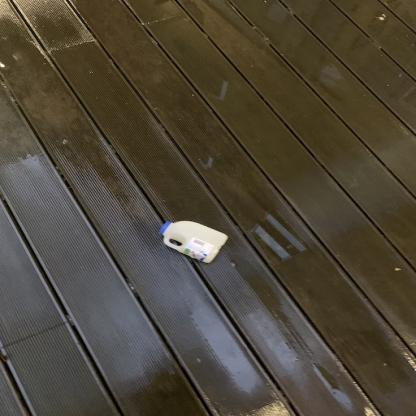trash: (160, 220, 228, 266)
